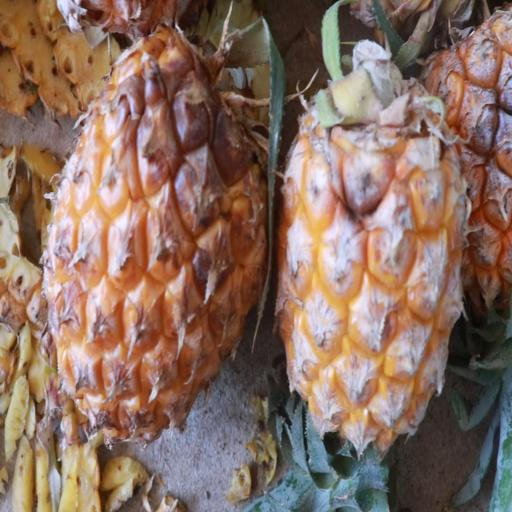Pineapple - v8 v1: (40, 0, 274, 445), (269, 34, 470, 508)
